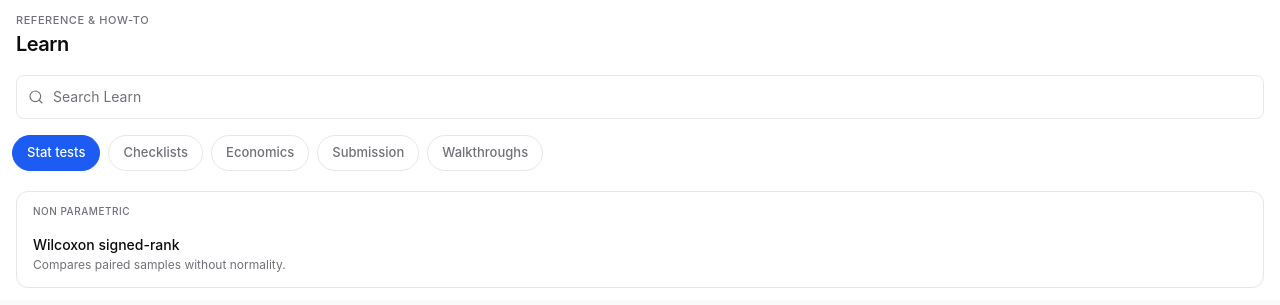
Test case: MobileLearn › switches list when a category chip is clicked
Expected: the button with test id "mlearn-entry-wilcoxon" is shown, [17,222,1263,286]
Click the tab with test id "mlearn-chip-checklists": (156, 152) [108,134,203,170]
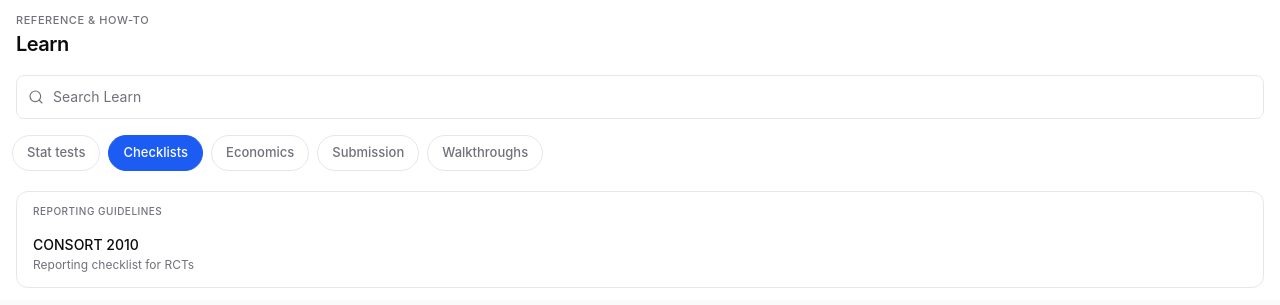
Result: the button with test id "mlearn-entry-consort-2010" is shown at [17,222,1263,286]
